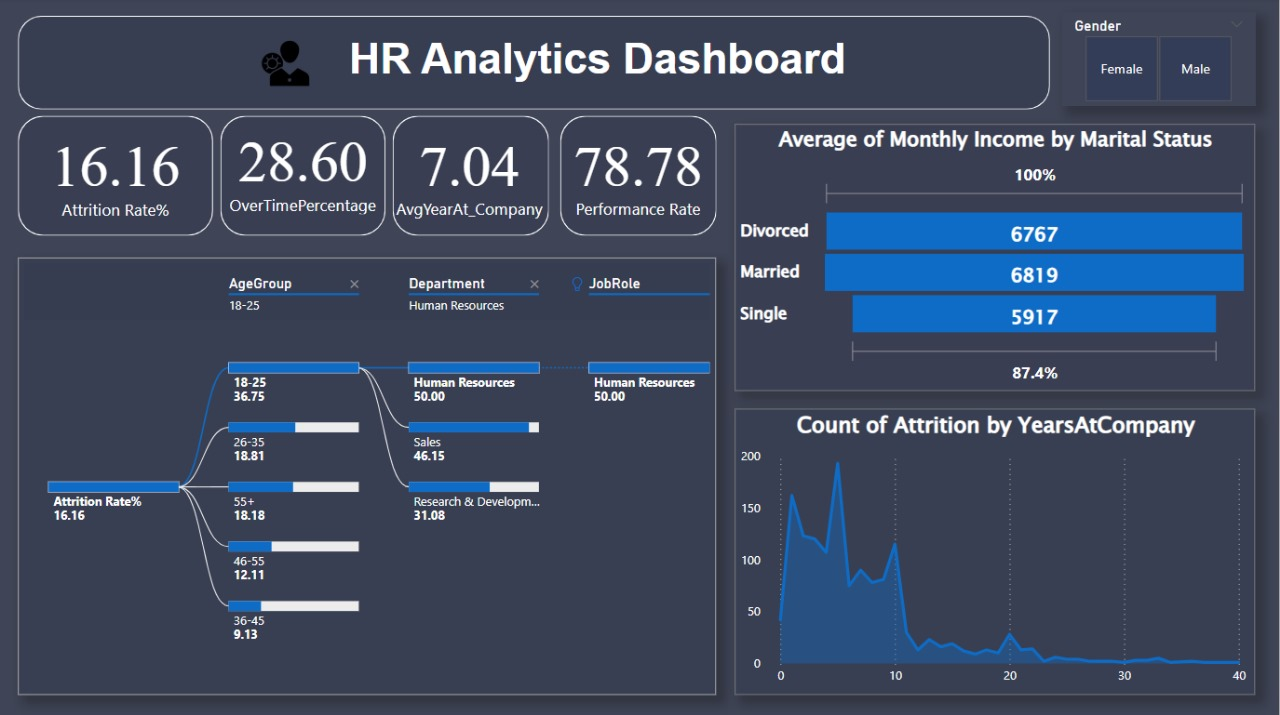

Layout of this report page (visuals, bound fields, positions):
{"tool":"powerbi","page":{"name":"Action","canvas":[1280,720],"ordinal":1},"visuals":[{"type":"decompositionTreeVisual","fields":{"Analyze":["HR_Analytics.Attrition Rate%"],"ExplainBy":["HR_Analytics.AgeGroup","HR_Analytics.Department","HR_Analytics.JobRole"]},"box":[20,260,697.5,437.5],"z":0},{"type":"stackedAreaChart","fields":{"Y":["CountNonNull(HR_Analytics.Attrition)"],"Category":["HR_Analytics.YearsAtCompany"]},"box":[736.2,411.2,520,286.2],"z":1000},{"type":"slicer","fields":{"Values":["HR_Analytics.Gender"]},"box":[1062.5,15,193.8,93.8],"z":2000},{"type":"funnel","title":"Average of Monthly Income by Marital Status","fields":{"Category":["HR_Analytics.MaritalStatus"],"Y":["Avg(HR_Analytics.MonthlyIncome)"]},"box":[736.2,126.2,520,267.5],"z":3000},{"type":"shape","box":[20,18.8,1031.2,93.8],"z":4000},{"type":"textbox","box":[262.5,32.5,742.5,87.5],"z":5000},{"type":"image","box":[251.2,32.5,71.2,67.5],"z":6000},{"type":"shape","box":[20,118.8,195,120],"z":7000},{"type":"shape","box":[222.5,118.8,165,120],"z":8000},{"type":"card","fields":{"Values":["HR_Analytics.Attrition Rate%"]},"box":[35,123.8,165,103.8],"z":9000},{"type":"card","fields":{"Values":["HR_Analytics.OverTimePercentage"]},"box":[222.5,118.8,165,103.8],"z":10000},{"type":"shape","box":[393.8,118.8,156.2,120],"z":11000},{"type":"card","fields":{"Values":["HR_Analytics.AvgYearAt_Company"]},"box":[387.5,120,167.5,110],"z":12000},{"type":"shape","box":[561.2,118.8,156.2,120],"z":13000},{"type":"card","fields":{"Values":["HR_Analytics.Performance Rate (%)"]},"box":[561.2,120,156.2,110],"z":14000}]}

Visuals, with their boxes in screenshot pixels (x1, y1, x2, y2), scaled from the page's 1280x720 canvas onto the 1280x715 screenshot:
decompositionTreeVisual - HR_Analytics.Attrition Rate% x HR_Analytics.AgeGroup: l=20, t=258, r=718, b=693
stackedAreaChart - CountNonNull(HR_Analytics.Attrition) x HR_Analytics.YearsAtCompany: l=736, t=408, r=1256, b=693
slicer - HR_Analytics.Gender: l=1062, t=15, r=1256, b=108
"Average of Monthly Income by Marital Status" funnel: l=736, t=125, r=1256, b=391
shape: l=20, t=19, r=1051, b=112
textbox: l=262, t=32, r=1005, b=119
image: l=251, t=32, r=322, b=99
shape: l=20, t=118, r=215, b=237
shape: l=222, t=118, r=388, b=237
card - HR_Analytics.Attrition Rate%: l=35, t=123, r=200, b=226
card - HR_Analytics.OverTimePercentage: l=222, t=118, r=388, b=221
shape: l=394, t=118, r=550, b=237
card - HR_Analytics.AvgYearAt_Company: l=388, t=119, r=555, b=228
shape: l=561, t=118, r=717, b=237
card - HR_Analytics.Performance Rate (%): l=561, t=119, r=717, b=228
